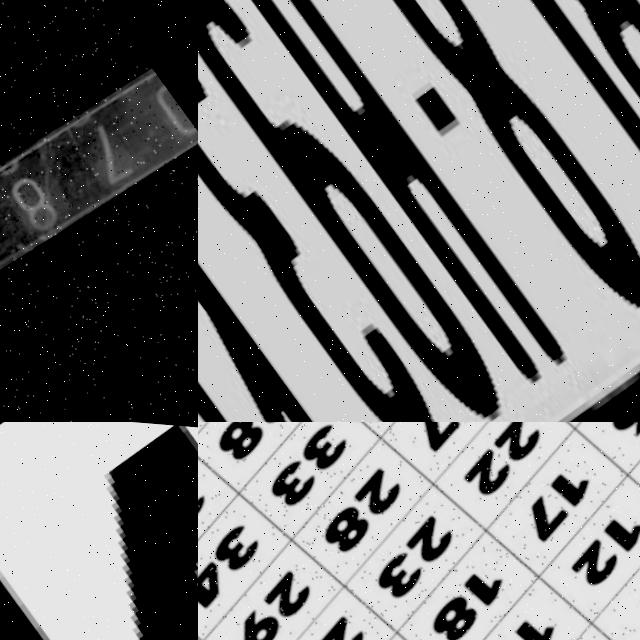0: (148, 73, 198, 136)
1: (453, 540, 530, 617), (542, 439, 614, 513), (507, 588, 581, 640), (597, 485, 640, 553)
2: (451, 426, 534, 510), (255, 549, 337, 631), (345, 448, 424, 528), (397, 497, 472, 571), (560, 522, 634, 596), (482, 422, 561, 470), (310, 596, 387, 640)
3: (198, 0, 491, 422), (255, 441, 338, 525), (204, 504, 285, 585), (362, 532, 442, 613), (290, 422, 365, 480), (198, 464, 226, 539), (472, 622, 549, 640)
4: (198, 544, 254, 633)
5: (198, 106, 361, 422)
6: (592, 422, 640, 452)
7: (504, 467, 590, 554), (72, 105, 150, 186), (399, 422, 479, 463)
8: (261, 0, 640, 327), (309, 484, 392, 567), (418, 574, 501, 640), (4, 158, 75, 232), (204, 422, 286, 475)
9: (198, 0, 557, 422), (223, 586, 305, 640)
B: (381, 0, 640, 224)
H: (198, 0, 611, 390)
K: (198, 33, 406, 422)
L: (335, 0, 640, 272)
W: (0, 422, 198, 640)
